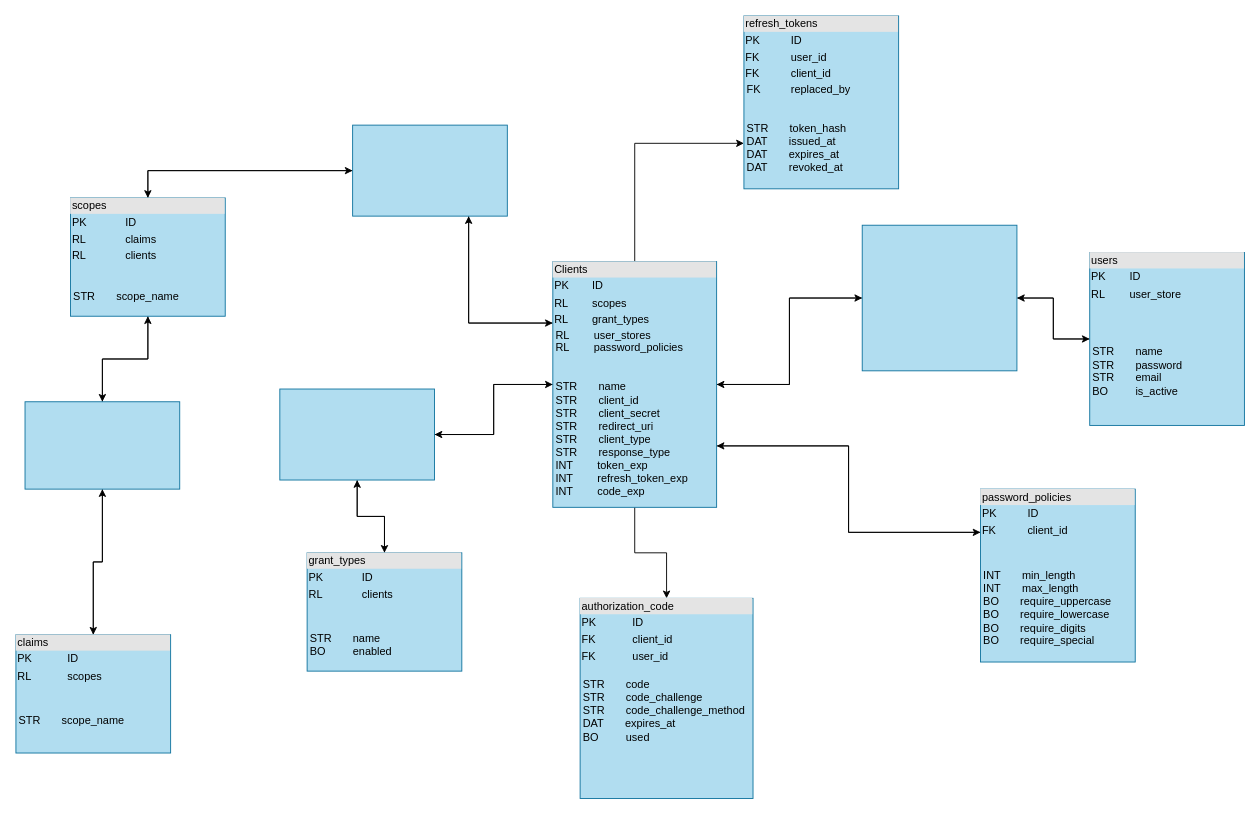
Some shapes in this 1260 by 814 pixel diagram are drawn without their labels. Each missing label, with the centre of its shape:
"client_grant_types(N:N) PK ID FK client_id FK grant_type_id" goes at (x=357, y=434).
"client_scopes(N:N) PK ID FK client_id FK scope_id" goes at (x=429, y=170).
"scopes_claims(N:N) PK ID FK scope_id FK claim_id" goes at (x=102, y=445).
"user_store PK ID RL client RL users STR name STR type" goes at (x=939, y=297).
